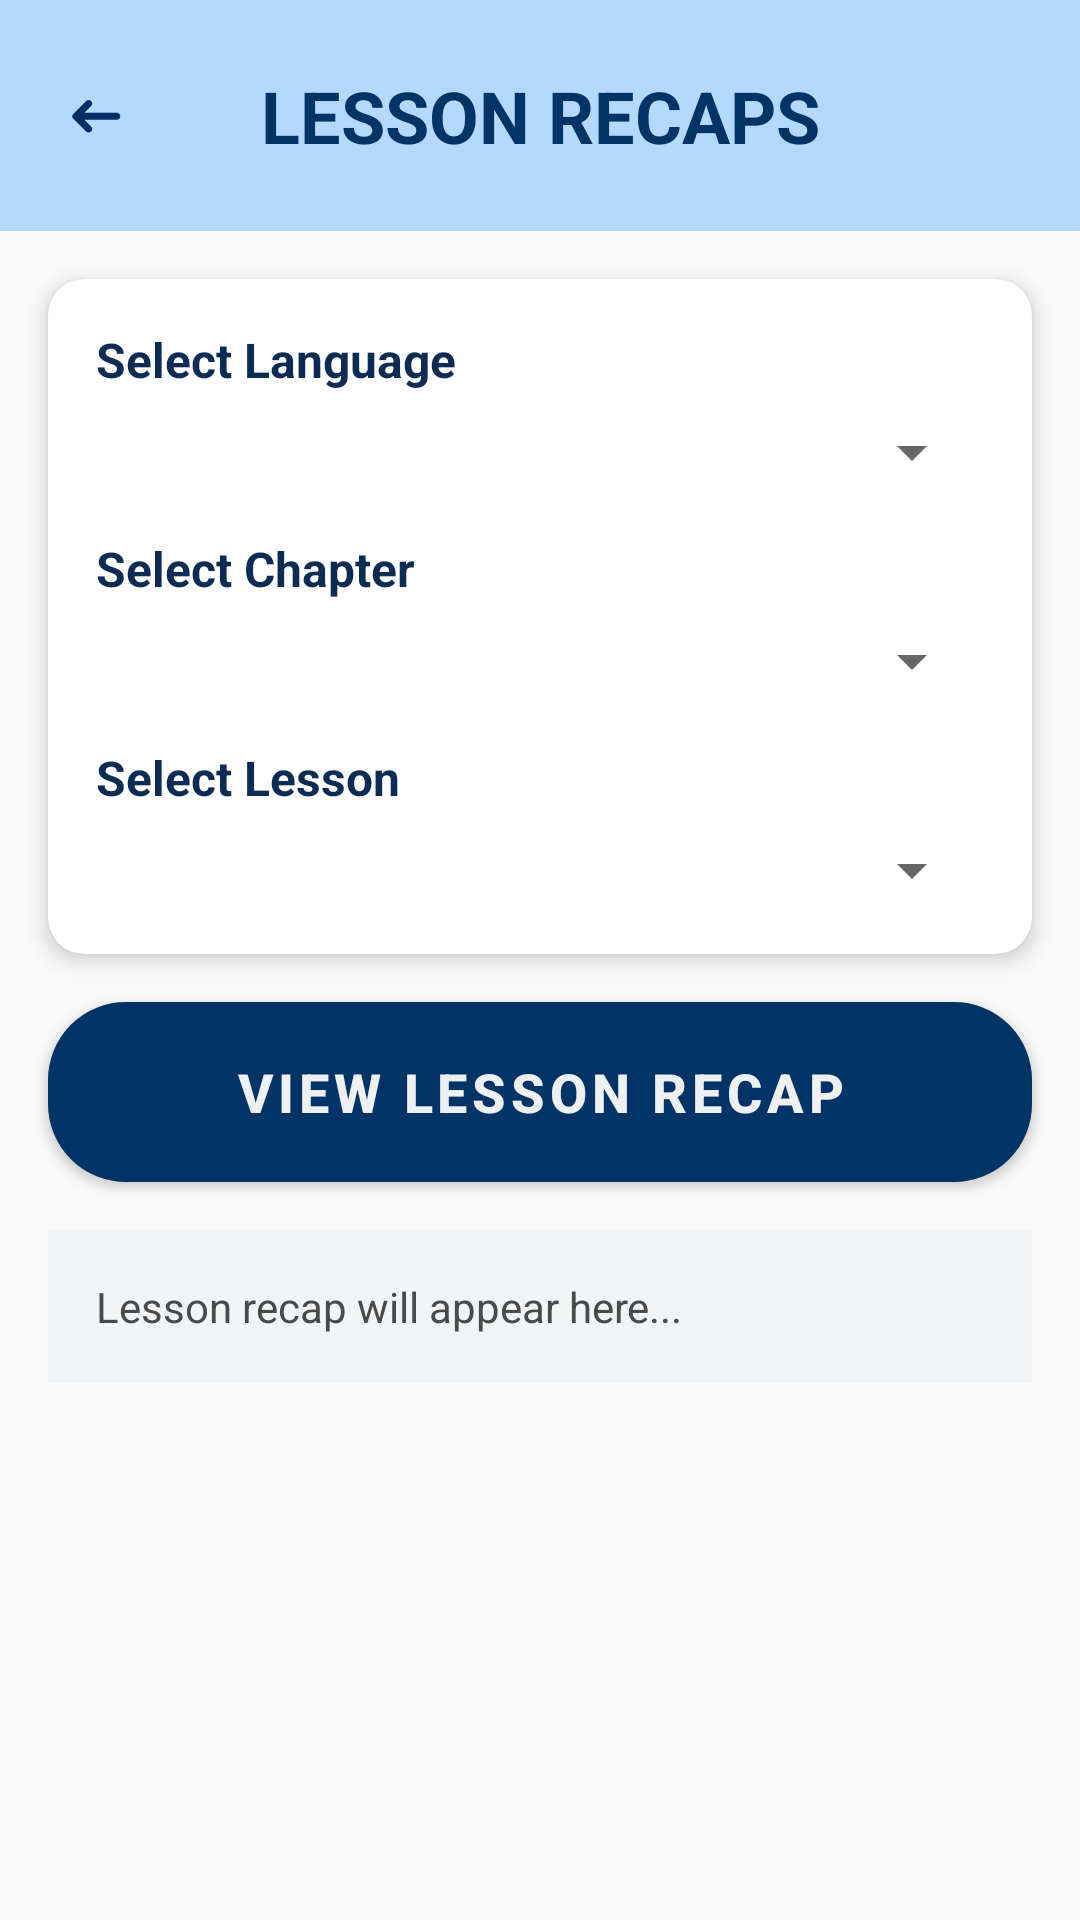

Point at icon controls on the screen. Image size 1080x1920, points as [x,y].
Back: [96,116]
